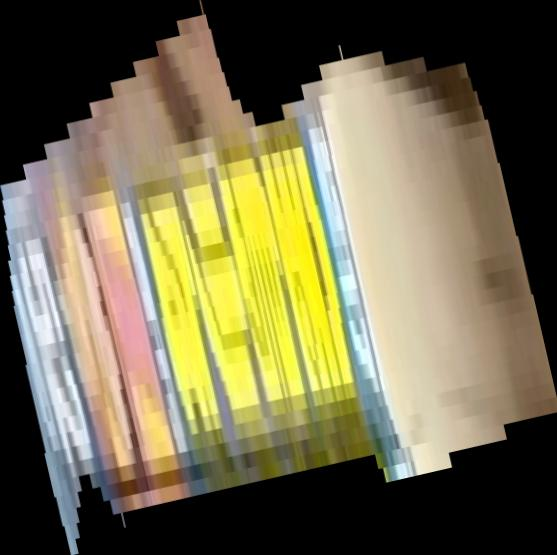flat: (1, 1, 557, 555)
